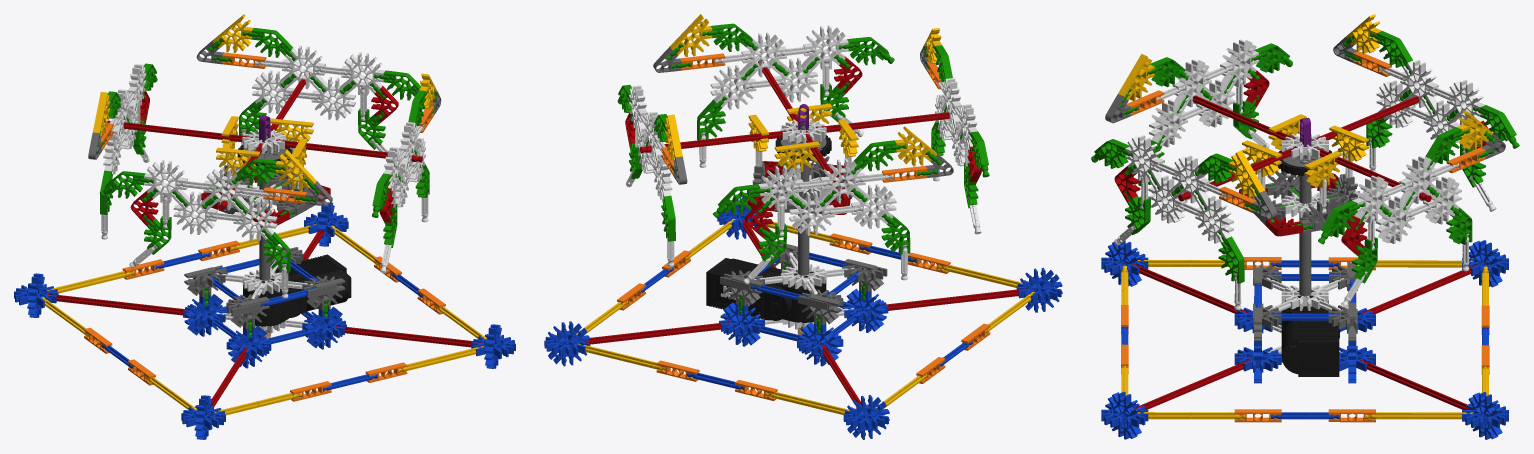
3 views of the same model, side by side, from view 1: azimuth 30°, elevation 25°; view 2: azimuth 150°, elevation 25°; view 3: azimuth 270°, elevation 25° (orthographic). The views are drawn at different scales.
Parts seen in each view (by area): view 1: xB2_L12.007, xB2_L12.002, xB2_L12.005, xB2_L12.001, xB2_L12.004, xB2_L12.006, xB2_L12.003, xB2_L12.008; view 2: xB2_L12.007, xB2_L12.005, xB2_L12.002, xB2_L12.001, xB2_L12.004, xB2_L12.006, xB2_L12.003, xB2_L12.008; view 3: xB2_L12.007, xB2_L12.005, xB2_L12.002, xB2_L12.001, xB2_L12.004, xB2_L12.006, xB2_L12.003, xB2_L12.008.
Boxes of the visible parts, box(x1,y1,x2,y2) form: xB2_L12.007: box(101, 45, 428, 332); xB2_L12.002: box(14, 202, 515, 439); xB2_L12.005: box(98, 28, 437, 336); xB2_L12.001: box(41, 14, 486, 415); xB2_L12.004: box(47, 73, 481, 406); xB2_L12.006: box(88, 39, 441, 334); xB2_L12.003: box(84, 52, 445, 401); xB2_L12.008: box(237, 145, 351, 326); xB2_L12.007: box(626, 25, 981, 329); xB2_L12.005: box(617, 23, 989, 333); xB2_L12.002: box(544, 196, 1062, 439); xB2_L12.001: box(573, 14, 1034, 414); xB2_L12.004: box(582, 56, 1027, 406); xB2_L12.006: box(653, 45, 953, 331); xB2_L12.003: box(617, 53, 990, 400); xB2_L12.008: box(706, 135, 831, 322); xB2_L12.007: box(1114, 39, 1496, 353); xB2_L12.005: box(1091, 31, 1519, 283); xB2_L12.002: box(1101, 240, 1508, 439); xB2_L12.001: box(1118, 14, 1492, 419); xB2_L12.004: box(1114, 70, 1488, 409); xB2_L12.006: box(1105, 37, 1505, 341); xB2_L12.003: box(1121, 51, 1489, 422); xB2_L12.008: box(1277, 150, 1340, 376).
Bounding box in the file's own units: 6.91 × 4.95 × 6.91.
